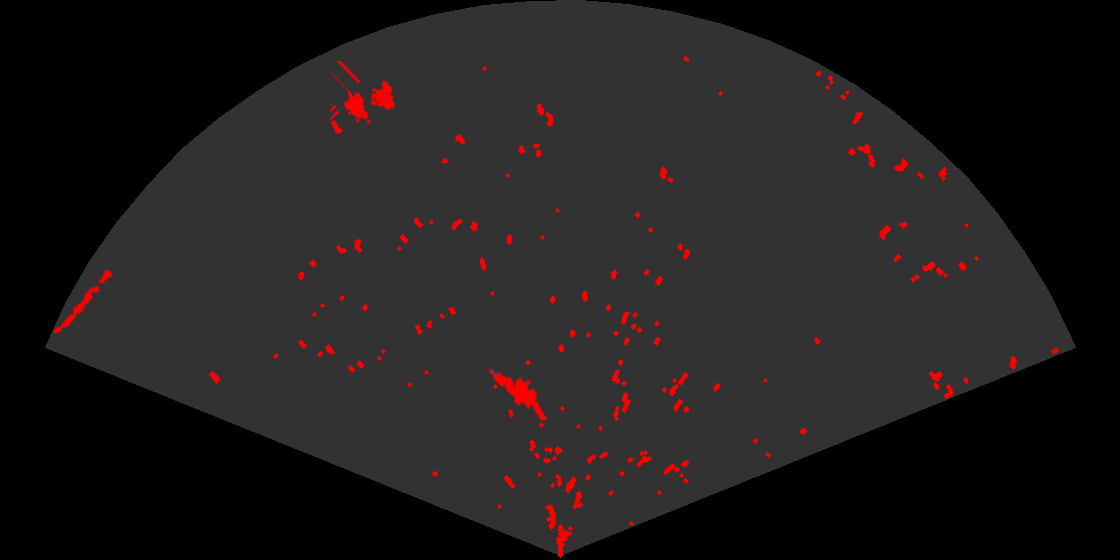cage: (330, 61, 396, 125)
chain: (51, 263, 120, 335)
frogman: (487, 367, 547, 420)
